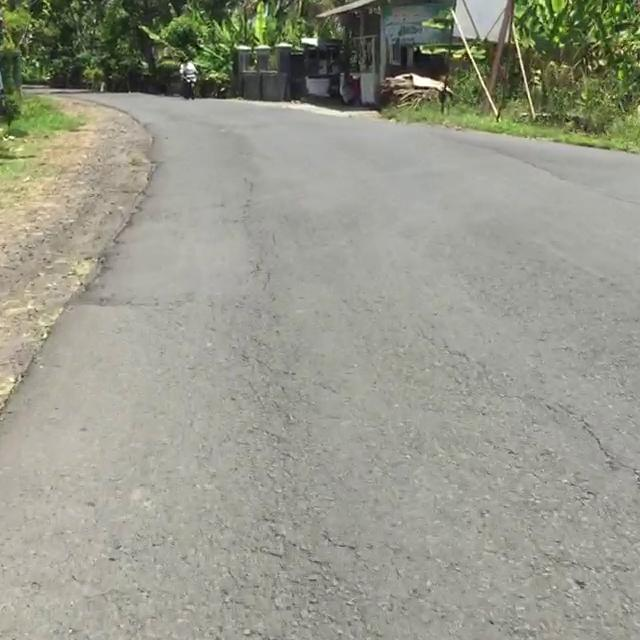retak_memanjang: (538, 387, 640, 545)
